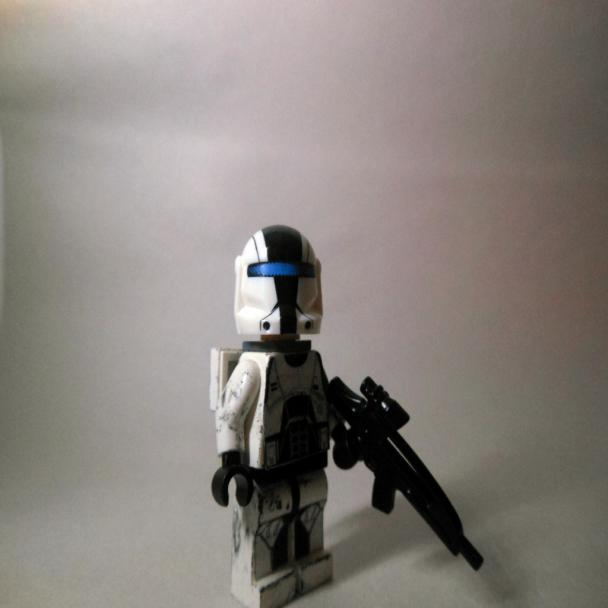Gun: (333, 366, 494, 585)
